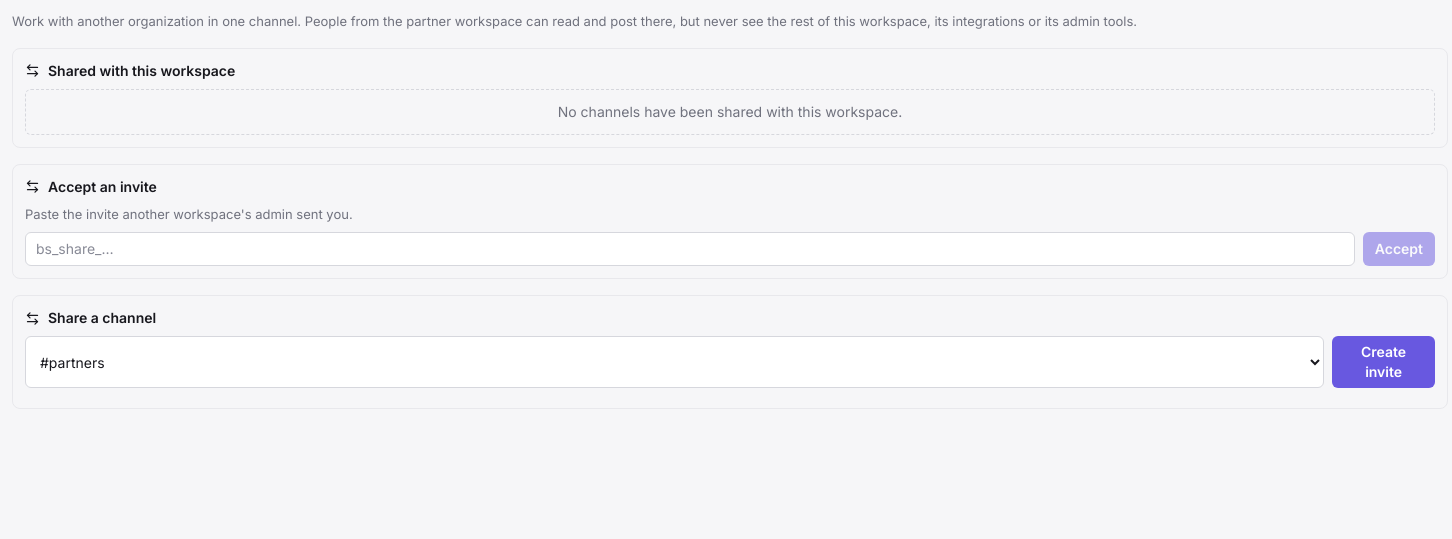
Test: SharedChannelsSettings › admins share only public, non-default channels of their own workspace and see the invite once
Click the button with test id "create-share-invite".
click(1384, 362)  # box [1332,336,1435,388]
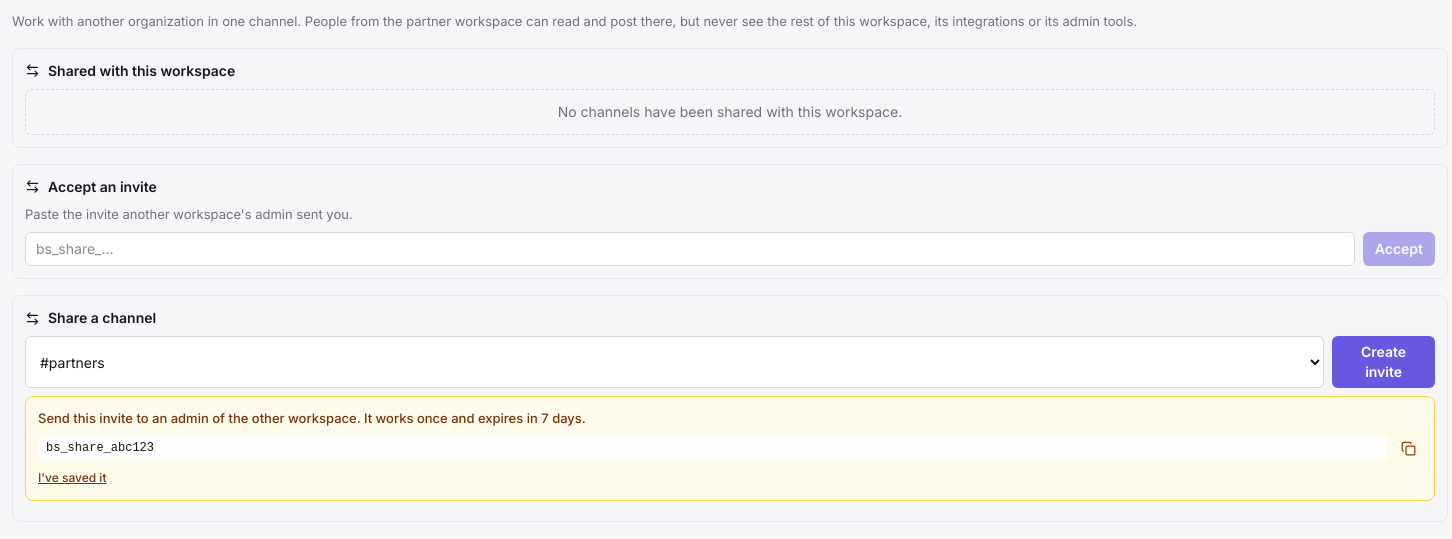
Expected: the heading "Accept an invite" is shown, [25,178,157,194]
Result: the text with test id "one-time-secret" reads "bs_share_abc123" at [46,441,154,455]
